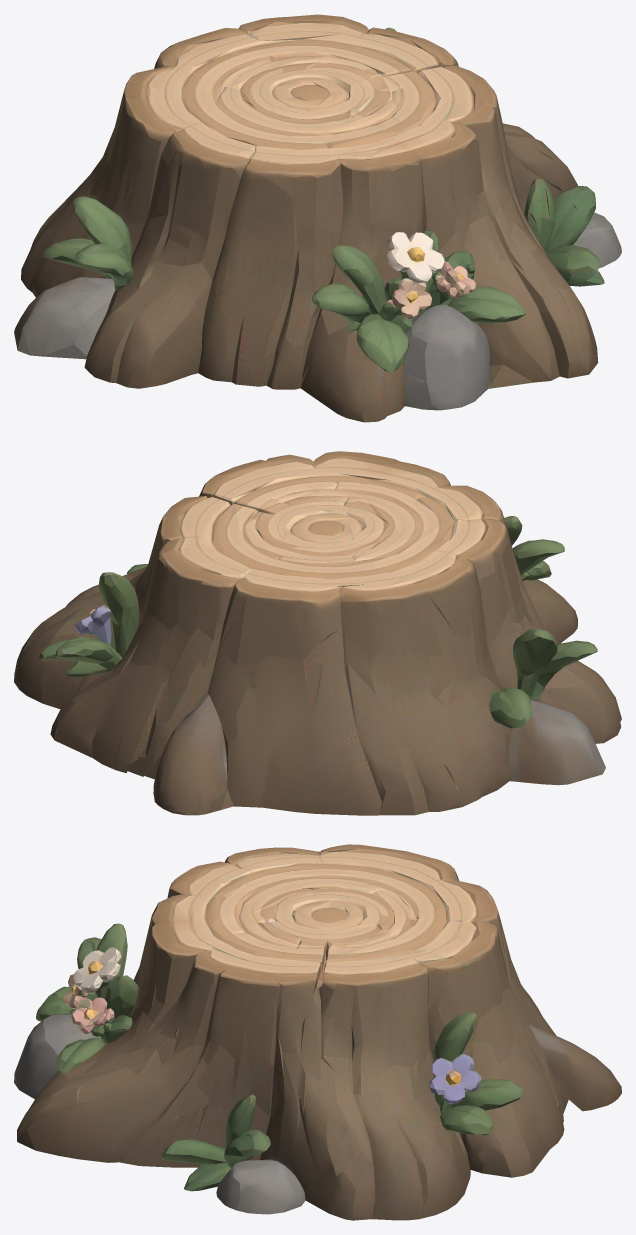
File: treeStump.glb
3 renders of one model, top to bottom at view 1: azimuth 30°, elevation 25°; view 2: azimuth 150°, elevation 25°; view 3: azimuth 270°, elevation 25°, orthographic. The views are drawn at different scales.
Visible parts, largest first — view 1: Mesh_0; view 2: Mesh_0; view 3: Mesh_0.
Boxes of the visible parts, x1,y1,x2,y2 form: Mesh_0: (14,14,621,422); Mesh_0: (14,451,621,815); Mesh_0: (14,844,621,1220).
Size of the model in its own units: 1.2 by 0.3769 by 1.17.
Materials: 1 (1 with a texture image).
